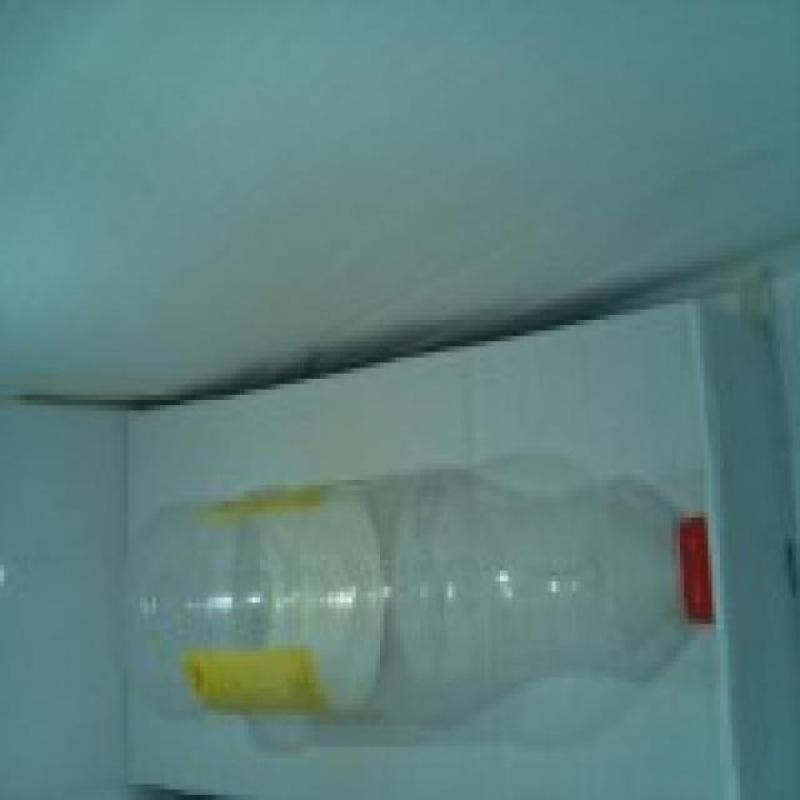botella: (134, 455, 714, 723)
